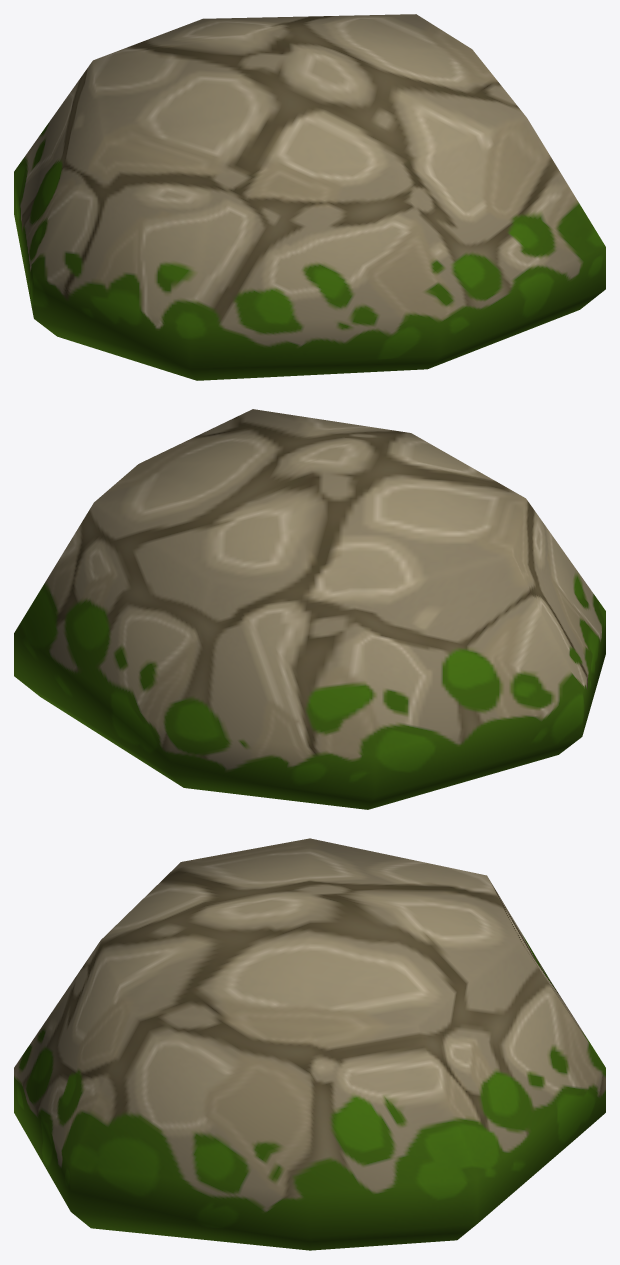
The model's file is Rock_04.FBX.
The picture shows the model from 3 angles, top to bottom: view 1: azimuth 30°, elevation 25°; view 2: azimuth 150°, elevation 25°; view 3: azimuth 270°, elevation 25°; orthographic projection. The views are drawn at different scales.
Visible parts, largest first — view 1: Rock_04; view 2: Rock_04; view 3: Rock_04.
Part boxes in pixels (left/top/right/bottom): Rock_04: left=14, top=14, right=605, bottom=380; Rock_04: left=14, top=409, right=605, bottom=809; Rock_04: left=14, top=838, right=605, bottom=1250.
Bounding box in the file's own units: 24.98 × 10.61 × 23.71.
